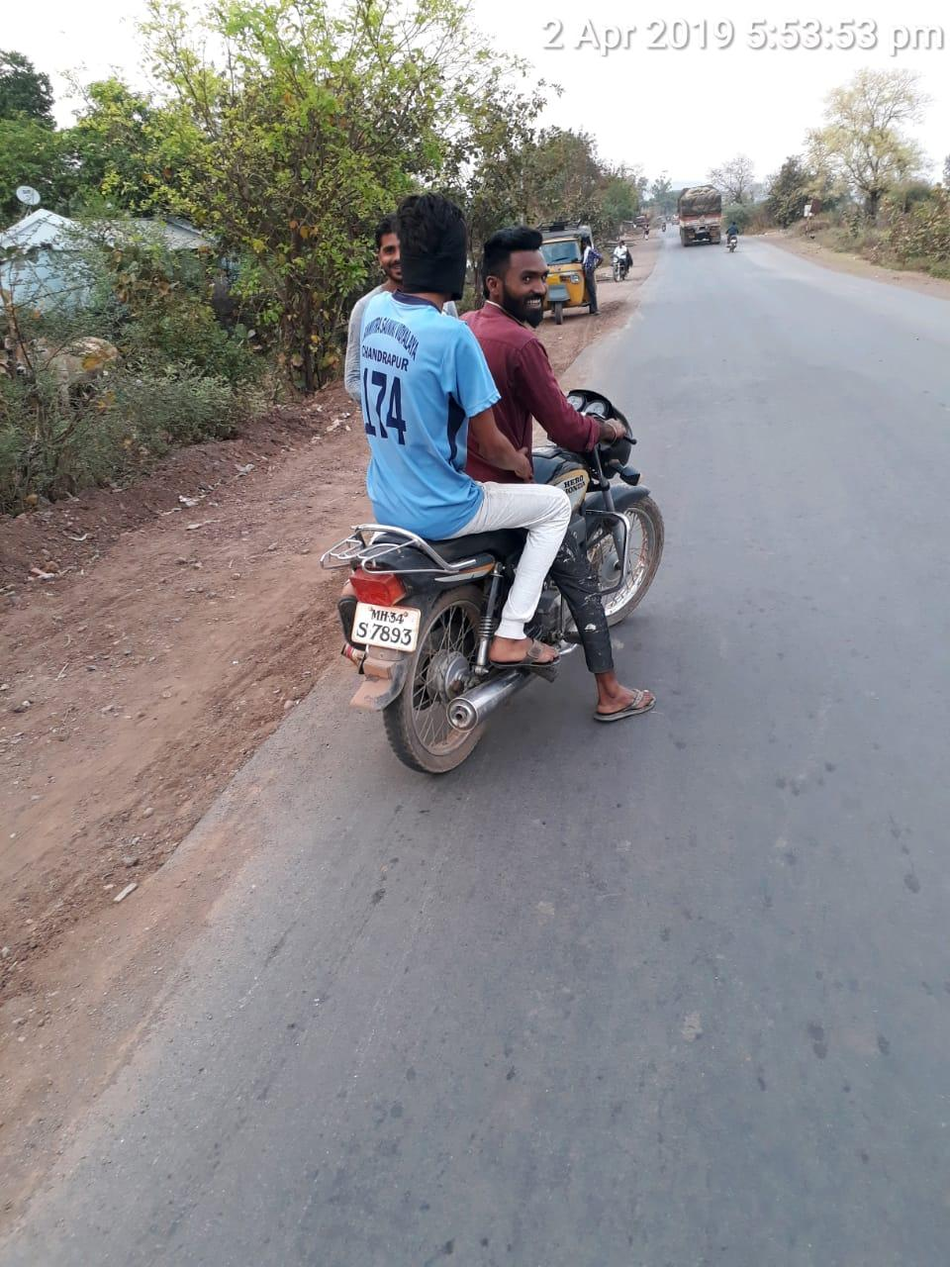plate: (347, 592, 434, 661)
